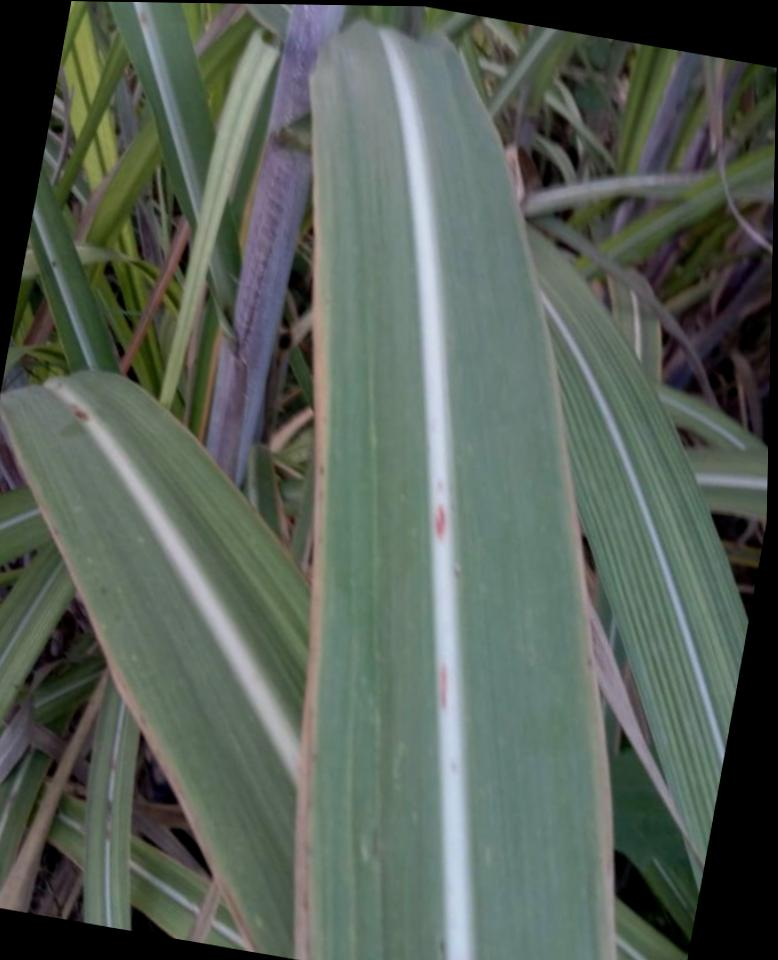RedRot: (433, 477, 448, 543), (435, 659, 450, 714), (68, 402, 90, 421)
